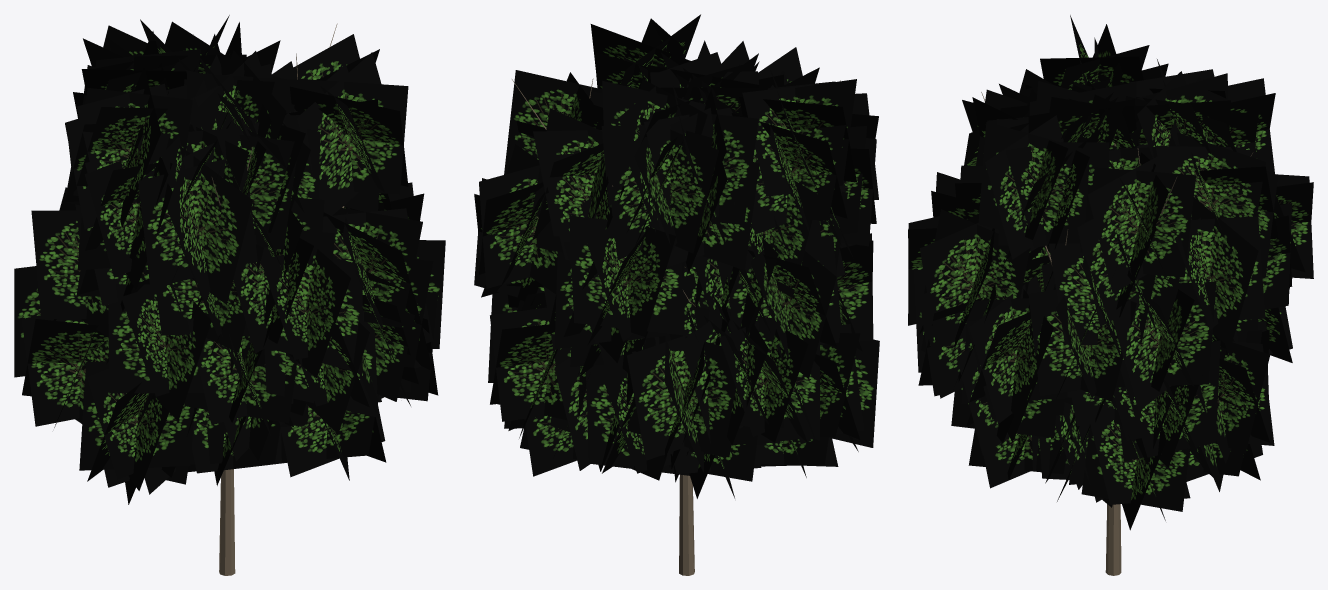
File: Beech_0_LOD0.glb
3 views of the same model, side by side, from view 1: azimuth 30°, elevation 25°; view 2: azimuth 150°, elevation 25°; view 3: azimuth 270°, elevation 25° (orthographic). The views are drawn at different scales.
Parts seen in each view (by area): view 1: Beech_0_LOD0; view 2: Beech_0_LOD0; view 3: Beech_0_LOD0.
Part boxes in pixels (box(x1,y1,x2,y2)): Beech_0_LOD0: box(14, 15, 445, 575); Beech_0_LOD0: box(474, 14, 879, 575); Beech_0_LOD0: box(908, 15, 1313, 575).
Bounding box in the file's own units: 14.25 × 19.27 × 14.46.
2 materials, 1 textured.
